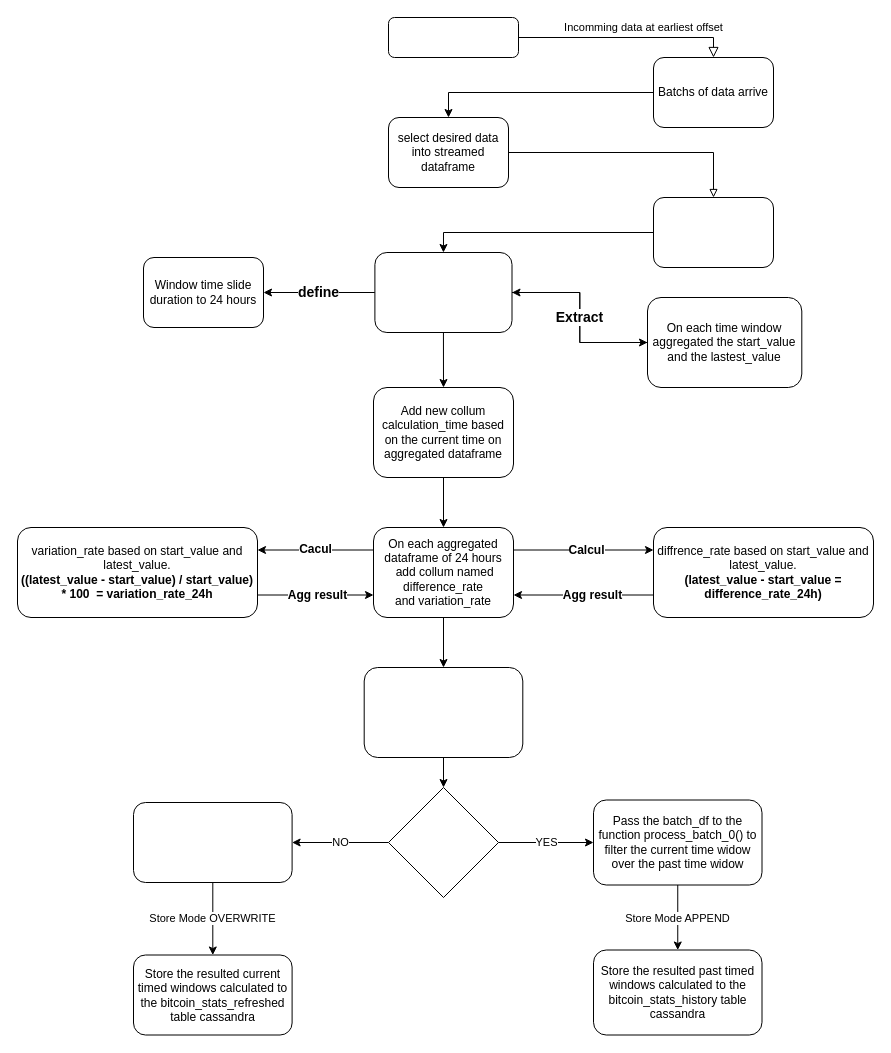
Some shapes in this 891 by 1053 pixel diagram are drawn without their labels. The shapes that lost their labels are listed below. From the top down, each one's centre as x and y in pixels, then its label:
point 453,37: Kafka streaming start
point 713,232: Pre-processing of data to format them into usable format
point 443,292: Aggregate dataframe based on time window stream of 24 hours
point 443,712: Process the resulted dataframe in query write stream for each batch
point 212,842: Format the dataframe to write him into cassandra
point 443,842: Is the batch ID 0 ?
